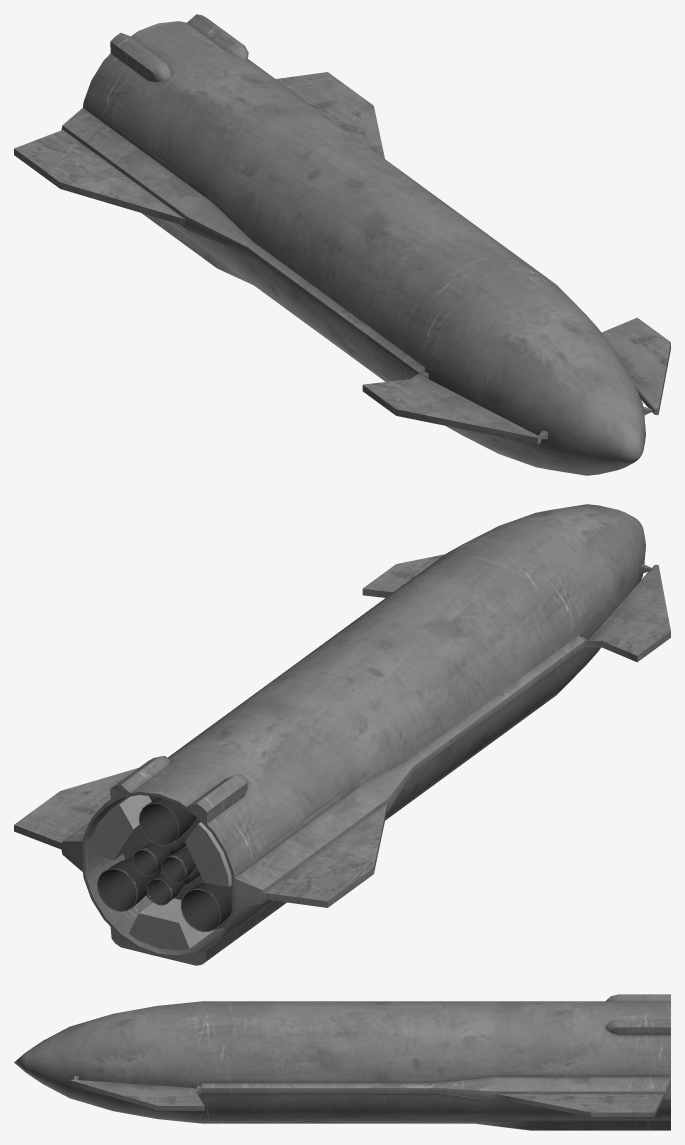
The model's file is Starship.glb.
3 views of the same model, one above another, from view 1: azimuth 30°, elevation 25°; view 2: azimuth 150°, elevation 25°; view 3: azimuth 270°, elevation 25° (orthographic). The views are drawn at different scales.
Parts seen in each view (by area): view 1: Body; view 2: Body; view 3: Body.
Boxes of the visible parts, <box> form: Body: <box>14,14,670,475</box>; Body: <box>14,504,670,965</box>; Body: <box>14,994,670,1130</box>.
Size of the model in its own units: 18.83 by 9.33 by 50.
1 material, 1 textured.
